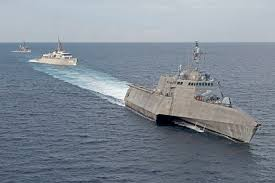tau_muctieu: (123, 65, 262, 145), (34, 44, 81, 66)
